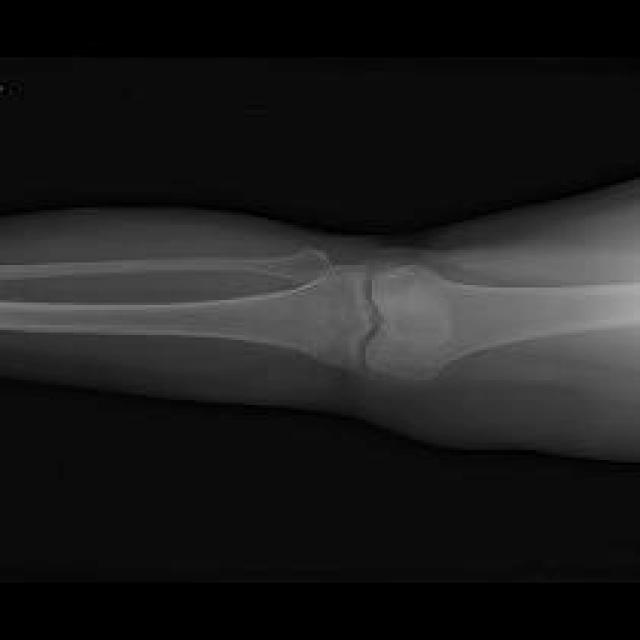normal: (0, 264, 372, 370), (368, 268, 640, 378), (1, 241, 336, 280)
